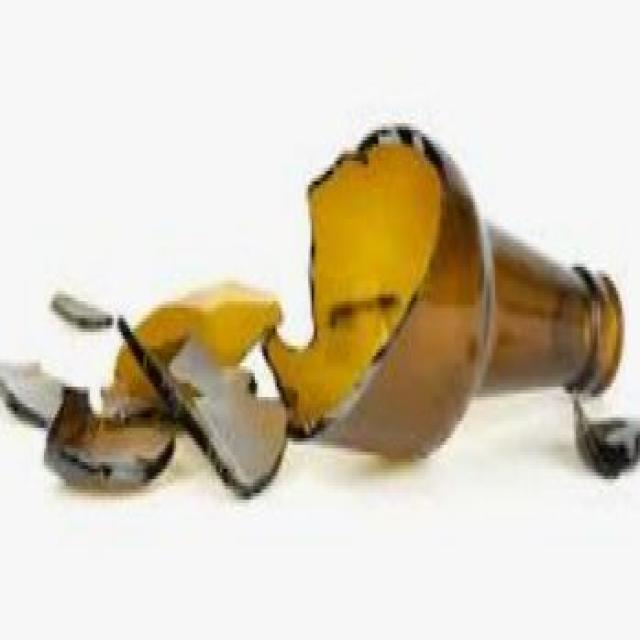electronic: (259, 119, 624, 465), (115, 308, 294, 503)
